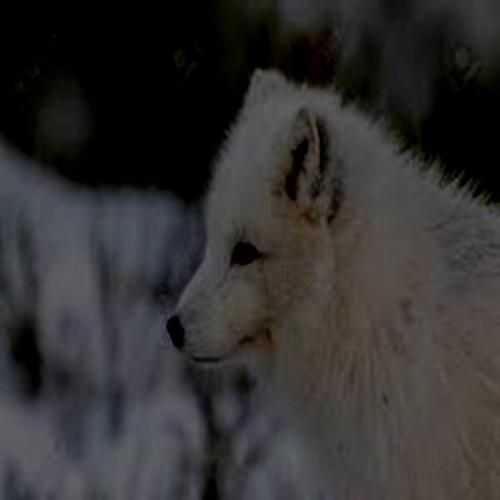arctic_fox-endangered: (165, 71, 500, 498)
